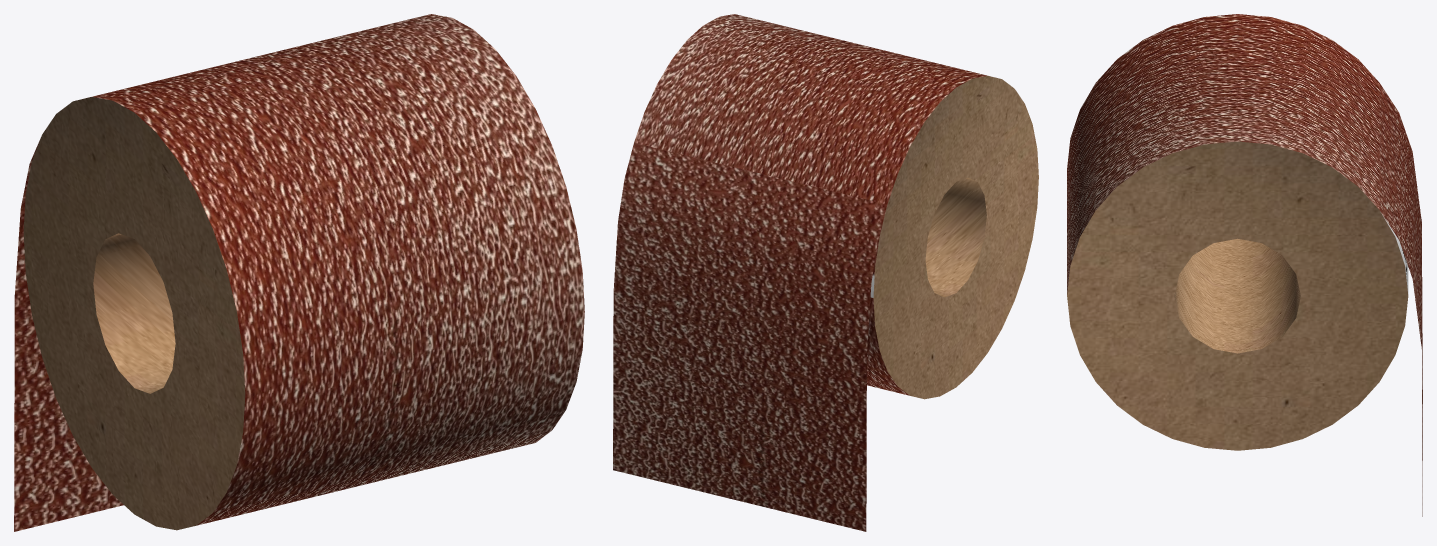
The model's file is papier_scierny_1.fbx.
3 renders of one model, left to right at view 1: azimuth 30°, elevation 25°; view 2: azimuth 150°, elevation 25°; view 3: azimuth 270°, elevation 25°, orthographic. The views are drawn at different scales.
Visible parts, largest first — view 1: rolka2; view 2: rolka2; view 3: rolka2.
Boxes of the visible parts, x1=… form: rolka2: x1=14, y1=14, x2=584, y2=531; rolka2: x1=613, y1=14, x2=1038, y2=531; rolka2: x1=1067, y1=14, x2=1422, y2=516.
Bounding box in the file's own units: 177 × 252 × 209.
